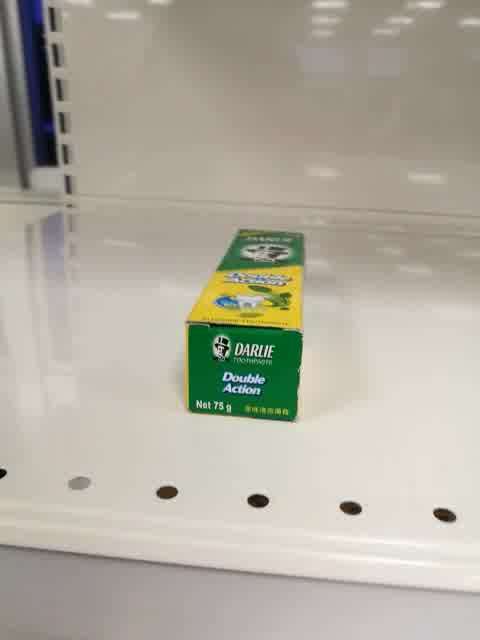toothpaste: (184, 227, 307, 424)
